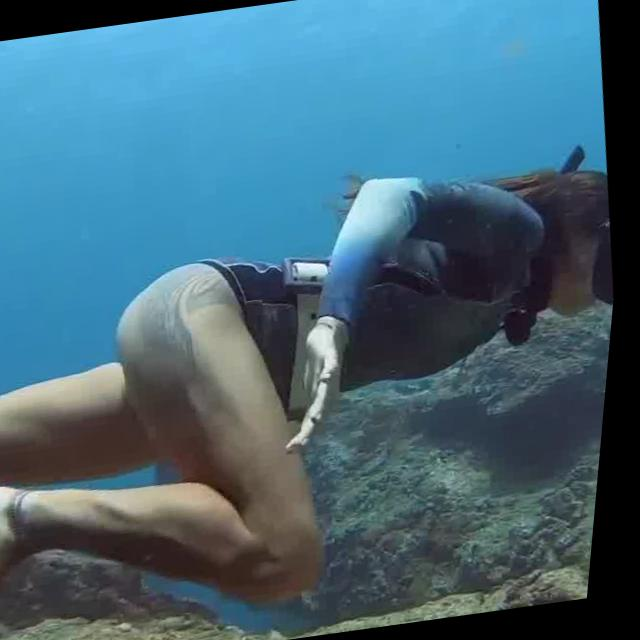human: (0, 139, 630, 640)
